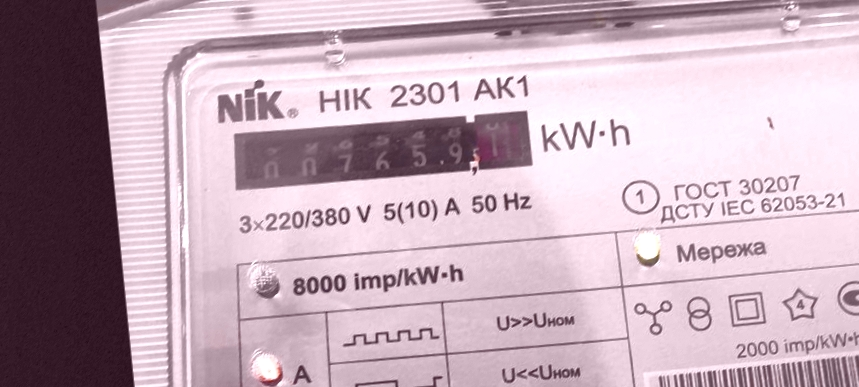0: (298, 154, 319, 181), (260, 157, 280, 185)
1: (485, 129, 502, 162)
5: (406, 141, 430, 170)
6: (370, 148, 392, 174)
7: (333, 151, 356, 178)
9: (444, 140, 464, 168)
screen: (219, 92, 544, 213)
